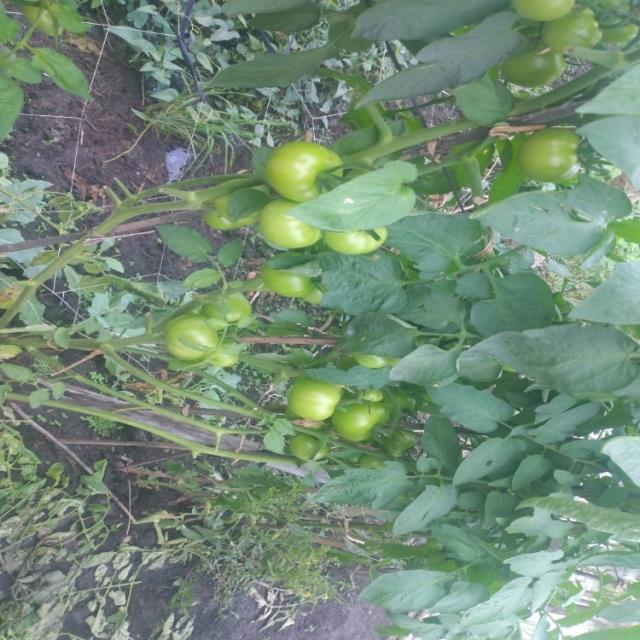tomato: (262, 133, 353, 200), (252, 201, 344, 265), (153, 309, 232, 374), (527, 118, 597, 190), (331, 394, 403, 452), (288, 370, 351, 430), (549, 10, 610, 53), (501, 50, 572, 86), (216, 280, 268, 329), (325, 224, 387, 263), (261, 277, 323, 311), (507, 1, 586, 25)
